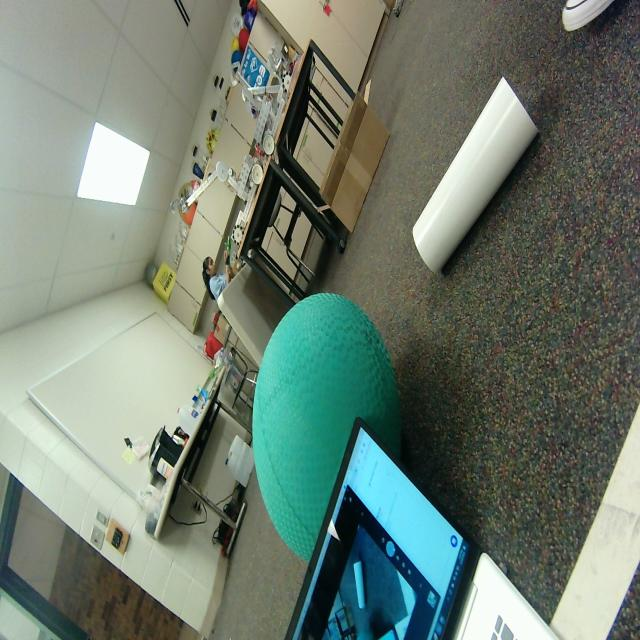algae: (248, 289, 406, 416)
coral: (413, 78, 539, 272)
